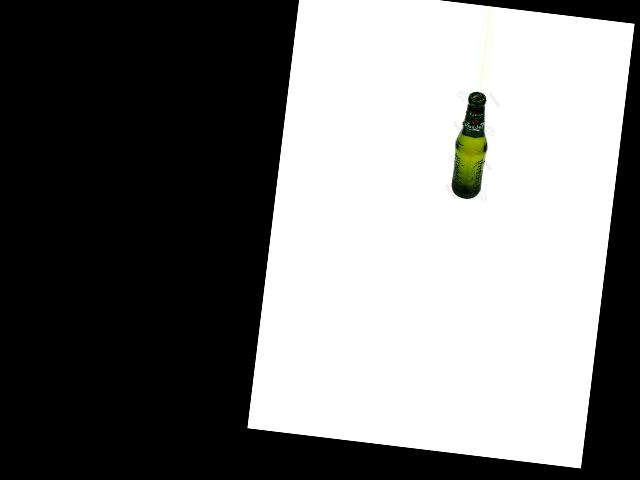beer: (448, 89, 493, 200)
